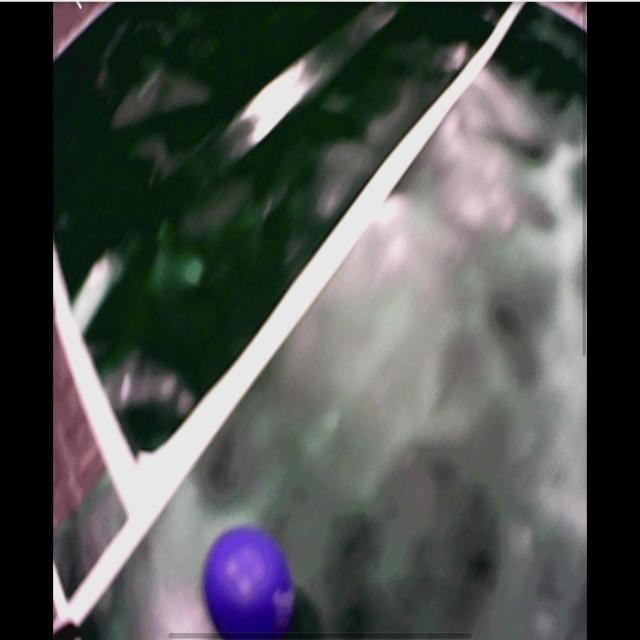ball: (205, 526, 292, 636)
